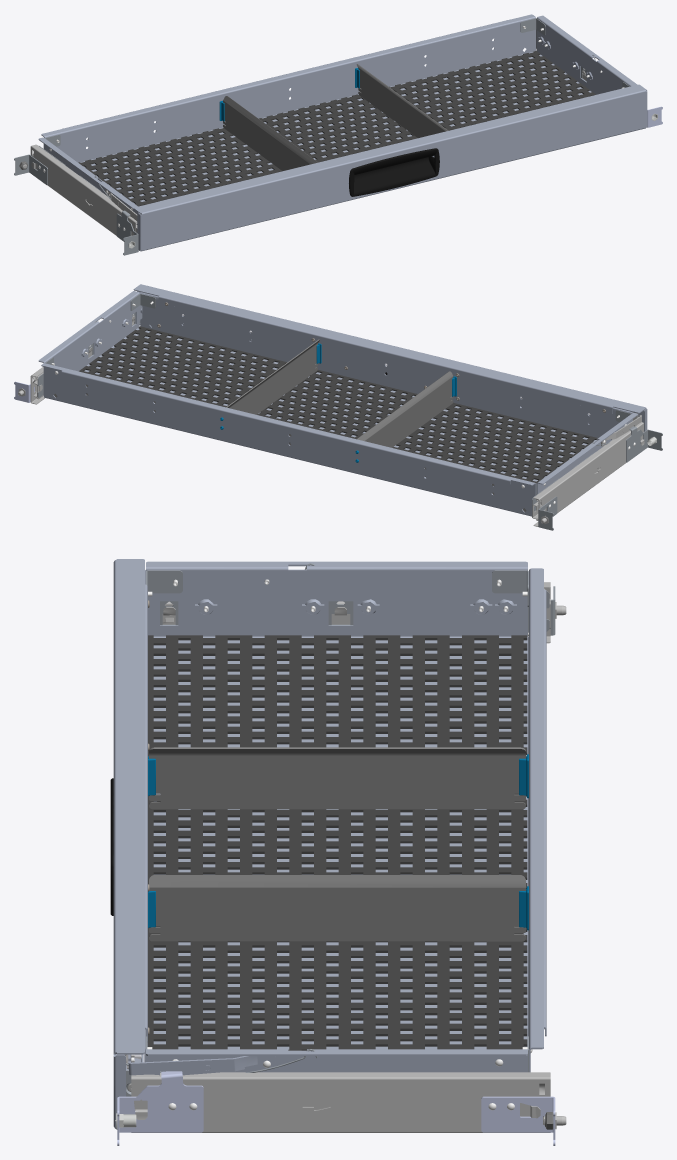
Rendered from KDW40236.glb.
The picture shows the model from 3 angles, top to bottom: view 1: azimuth 30°, elevation 25°; view 2: azimuth 150°, elevation 25°; view 3: azimuth 270°, elevation 25°; orthographic projection. The views are drawn at different scales.
Visible parts, largest first — view 1: A-XDW40236CRP-2/A-XDW40236CRP-1, TAC-35-1, A-XDW40200FRN-1, HPH00003-1, ADF_ZSL00036X0003-2/ZSL00036SXSUP-1, ZDD00236-5, ZDD00236-6, YAD00100PS01-1/YAD00100PS01-2, YAD00100PS02-1/YAD00100PS02-2; view 2: A-XDW40236CRP-2/A-XDW40236CRP-1, TAC-35-1, A-XDW40200FRN-1, ZDD00236-5, ADF_ZSL00036X0003-2/ZSL00036SXSUP-1, ZDD00236-6, YAD00100PS01-1/YAD00100PS01-2, YAD00100PS02-1/YAD00100PS02-2; view 3: TAC-35-1, A-XDW40236CRP-2/A-XDW40236CRP-1, ZDD00236-6, ZDD00236-5, ADF_ZSL00036X0004-1/ZSL00036DXSUP-1, A-XDW40200FRN-1, YAD00100PS03-1/YAD00100PS03-1, YAD00100PS04-1/YAD00100PS04-1, XDW40000AST-1/XDW00000GND-1, A-XDW40236CRP-2/A-XDW00200STF-3, A-XDW40236CRP-2/A-XDW00200STF-2.
Part boxes in pixels (x1,y1,x2,y2): A-XDW40236CRP-2/A-XDW40236CRP-1: (38, 14, 637, 214); TAC-35-1: (78, 51, 595, 206); A-XDW40200FRN-1: (133, 84, 647, 251); HPH00003-1: (349, 148, 439, 196); ADF_ZSL00036X0003-2/ZSL00036SXSUP-1: (30, 144, 137, 235); ZDD00236-5: (223, 96, 317, 170); ZDD00236-6: (356, 64, 448, 138); YAD00100PS01-1/YAD00100PS01-2: (116, 210, 138, 255); YAD00100PS02-1/YAD00100PS02-2: (14, 154, 47, 184); A-XDW40236CRP-2/A-XDW40236CRP-1: (38, 291, 637, 516); TAC-35-1: (54, 326, 597, 511); A-XDW40200FRN-1: (133, 284, 647, 431); ZDD00236-5: (357, 371, 453, 447); ADF_ZSL00036X0003-2/ZSL00036SXSUP-1: (533, 422, 644, 526); ZDD00236-6: (226, 339, 319, 414); YAD00100PS01-1/YAD00100PS01-2: (626, 426, 662, 462); YAD00100PS02-1/YAD00100PS02-2: (538, 496, 557, 530); TAC-35-1: (147, 635, 527, 1050); A-XDW40236CRP-2/A-XDW40236CRP-1: (126, 561, 546, 1072); ZDD00236-6: (149, 875, 525, 941); ZDD00236-5: (149, 747, 525, 809); ADF_ZSL00036X0004-1/ZSL00036DXSUP-1: (131, 1072, 550, 1132); A-XDW40200FRN-1: (113, 559, 147, 1129); YAD00100PS03-1/YAD00100PS03-1: (117, 1071, 203, 1145); YAD00100PS04-1/YAD00100PS04-1: (481, 1096, 555, 1145); XDW40000AST-1/XDW00000GND-1: (128, 1054, 275, 1075); A-XDW40236CRP-2/A-XDW00200STF-3: (492, 570, 528, 607); A-XDW40236CRP-2/A-XDW00200STF-2: (146, 570, 182, 593).
Size of the model in its own units: 1.01 by 0.0714 by 0.3698.
